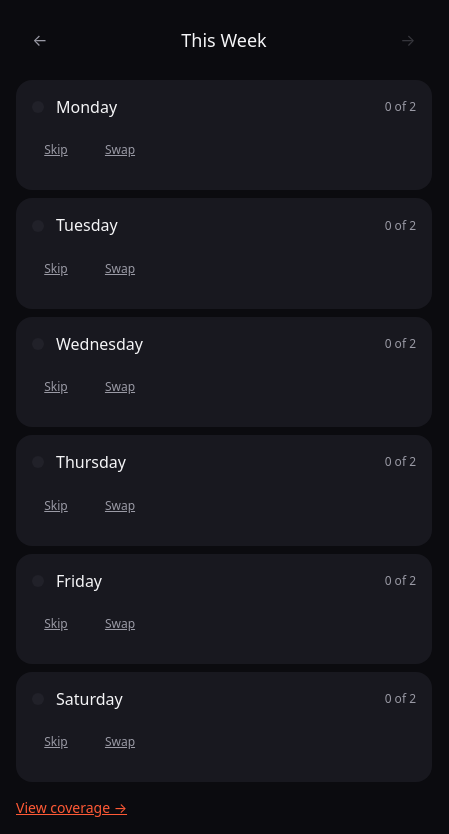
Test: Week Plan screen › navigates to the previous week and back
Expected: the heading "This Week" is shown, [181,26,267,54]
Expected: the button named "Next week" is disabled, [384,16,432,64]
Click the button named "Previous week" at (40, 40), box [16,16,64,64]
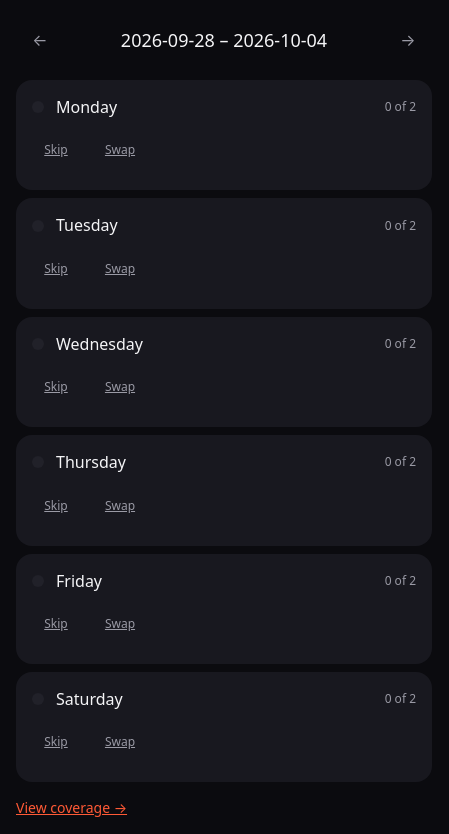
Expected: the heading "This Week" is gone
Click the button named "Next week" at (408, 40), box [384,16,432,64]
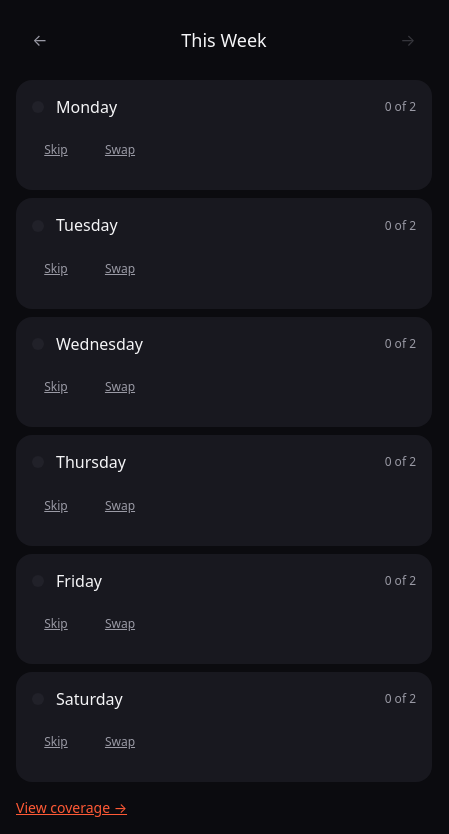
Expected: the heading "This Week" is shown, [181,26,267,54]
